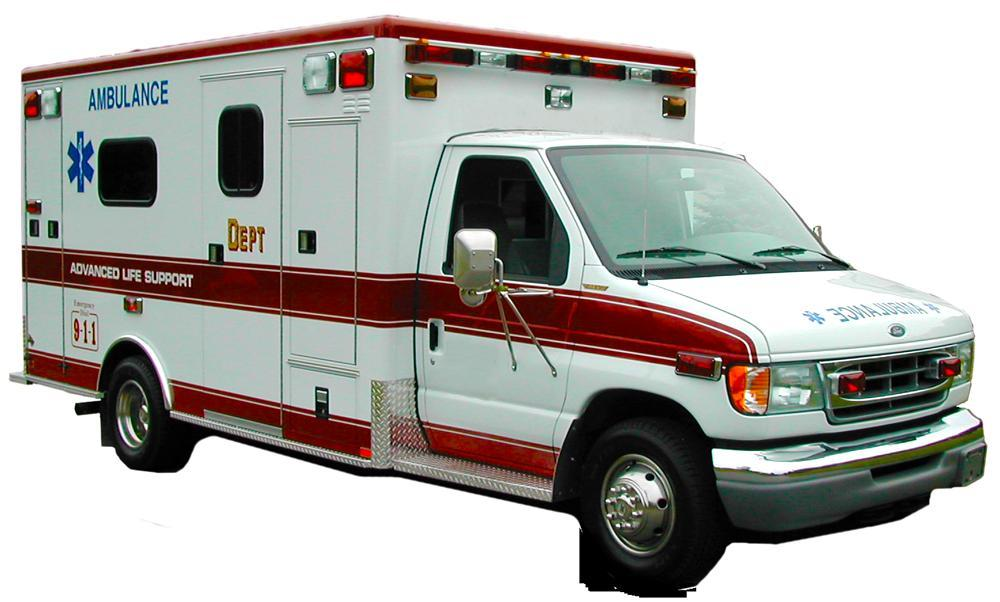Ambulance: (86, 80, 175, 112), (64, 130, 100, 195)
